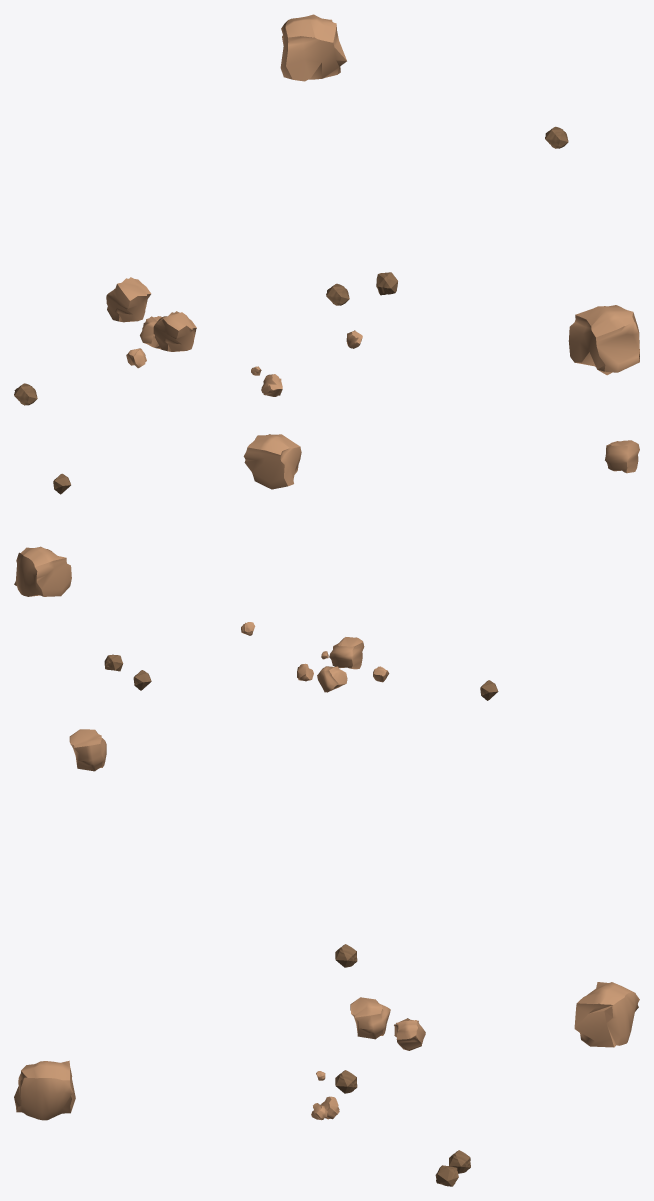
Rendered from SM_Floating_Rocks.fbx.
3 views of the same model, one above another, from view 1: azimuth 30°, elevation 25°; view 2: azimuth 150°, elevation 25°; view 3: azimuth 270°, elevation 25° (orthographic). The views are drawn at different scales.
Visible parts, largest first — view 1: floating_rocks; view 2: floating_rocks; view 3: floating_rocks.
Part boxes in pixels (<box>): floating_rocks: <box>14,14,639,405</box>; floating_rocks: <box>14,434,639,700</box>; floating_rocks: <box>14,729,639,1186</box>.
Size of the model in its own units: 508 by 223 by 490.
